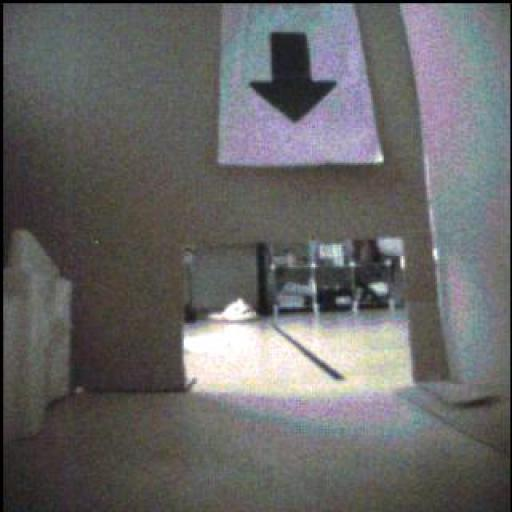arrow: (251, 33, 337, 123)
